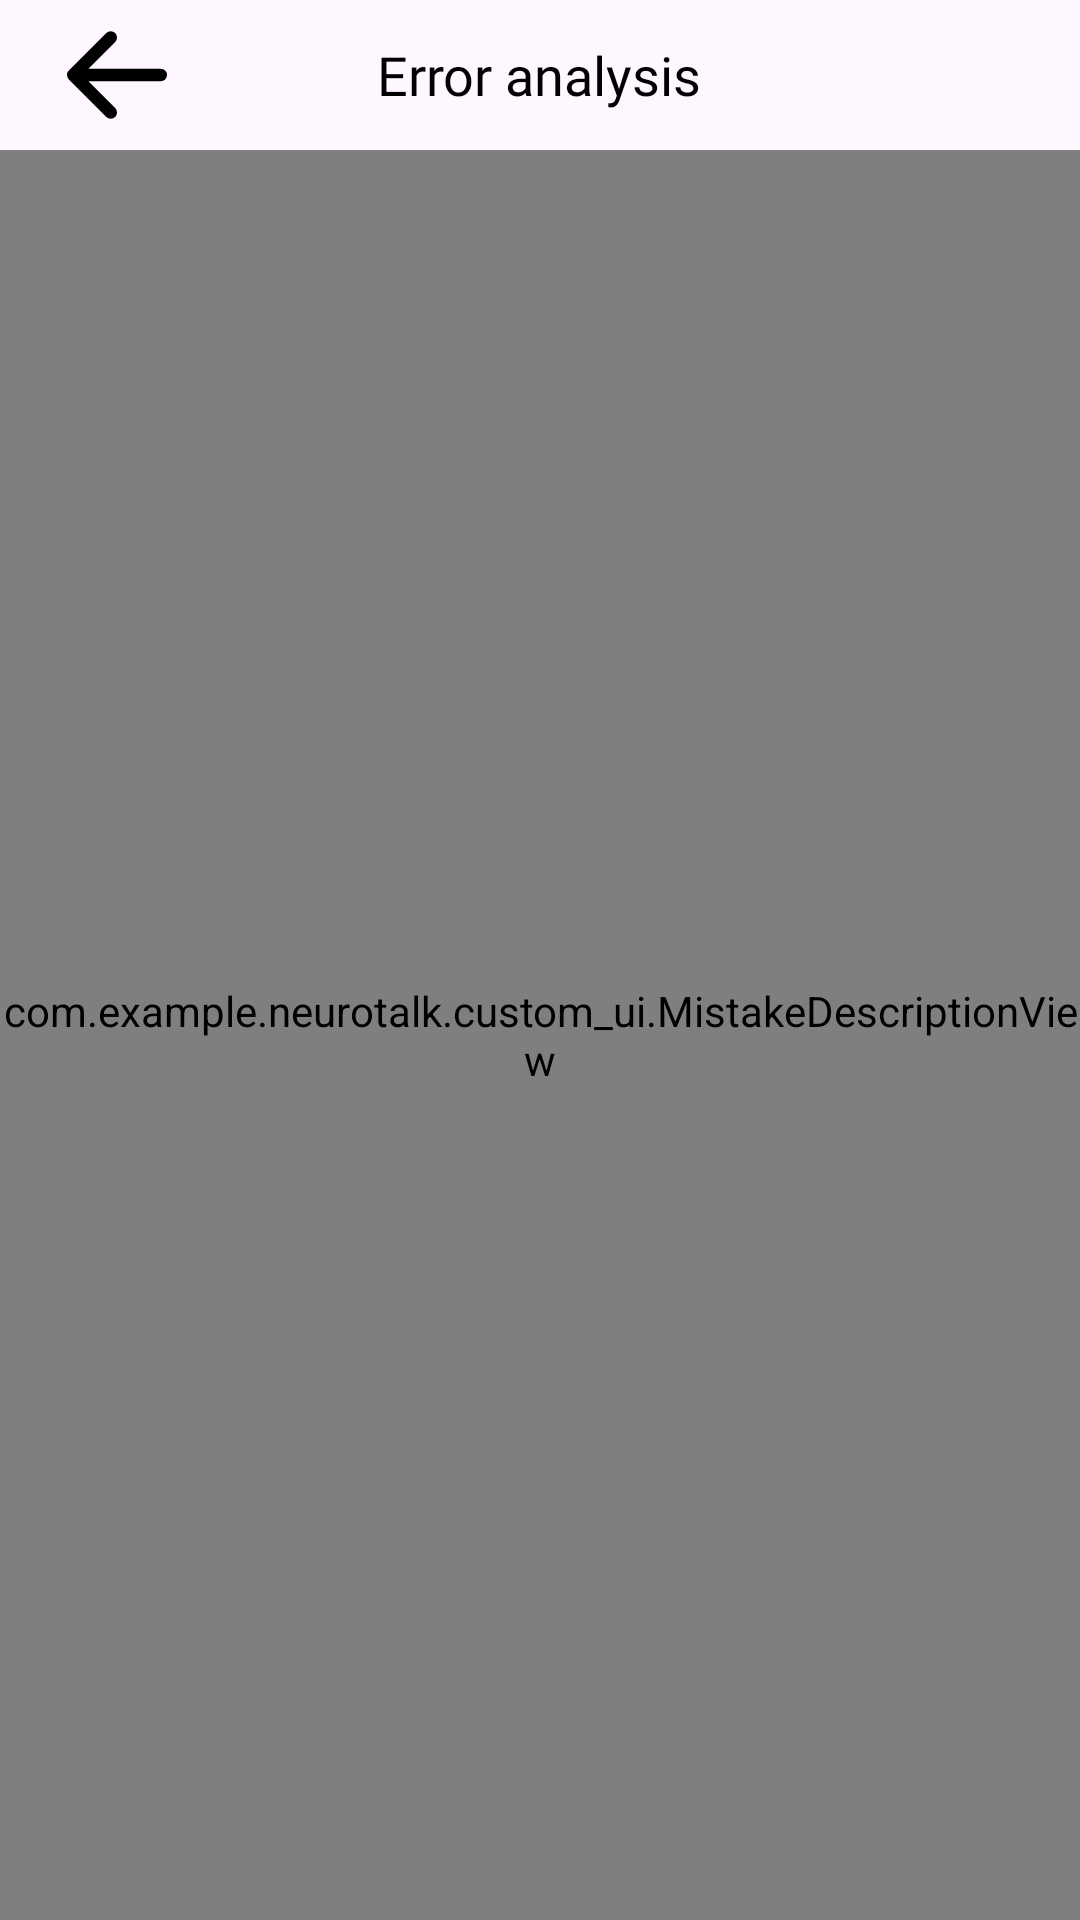

Icon click points for this 1080*1920 phone screenshot, format point (x, y):
arrow back: point (117, 75)
